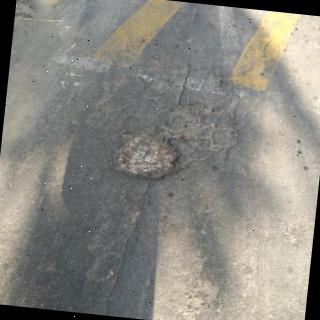pothole: (115, 126, 181, 180)
